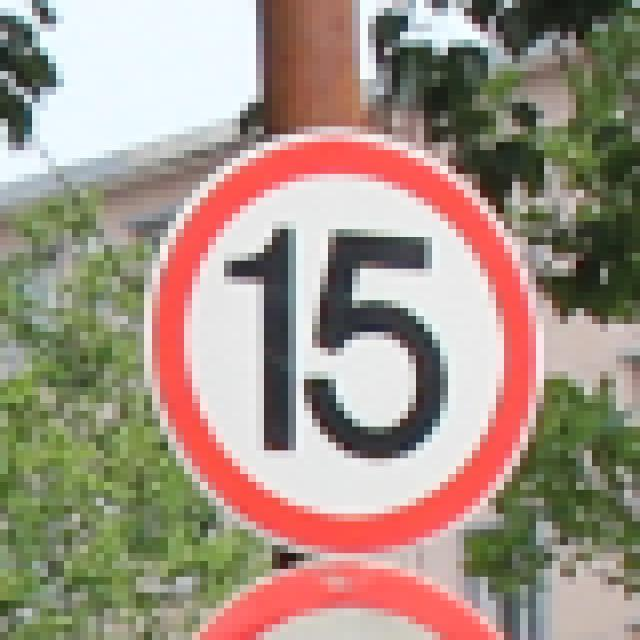Speed: (129, 110, 565, 577)
